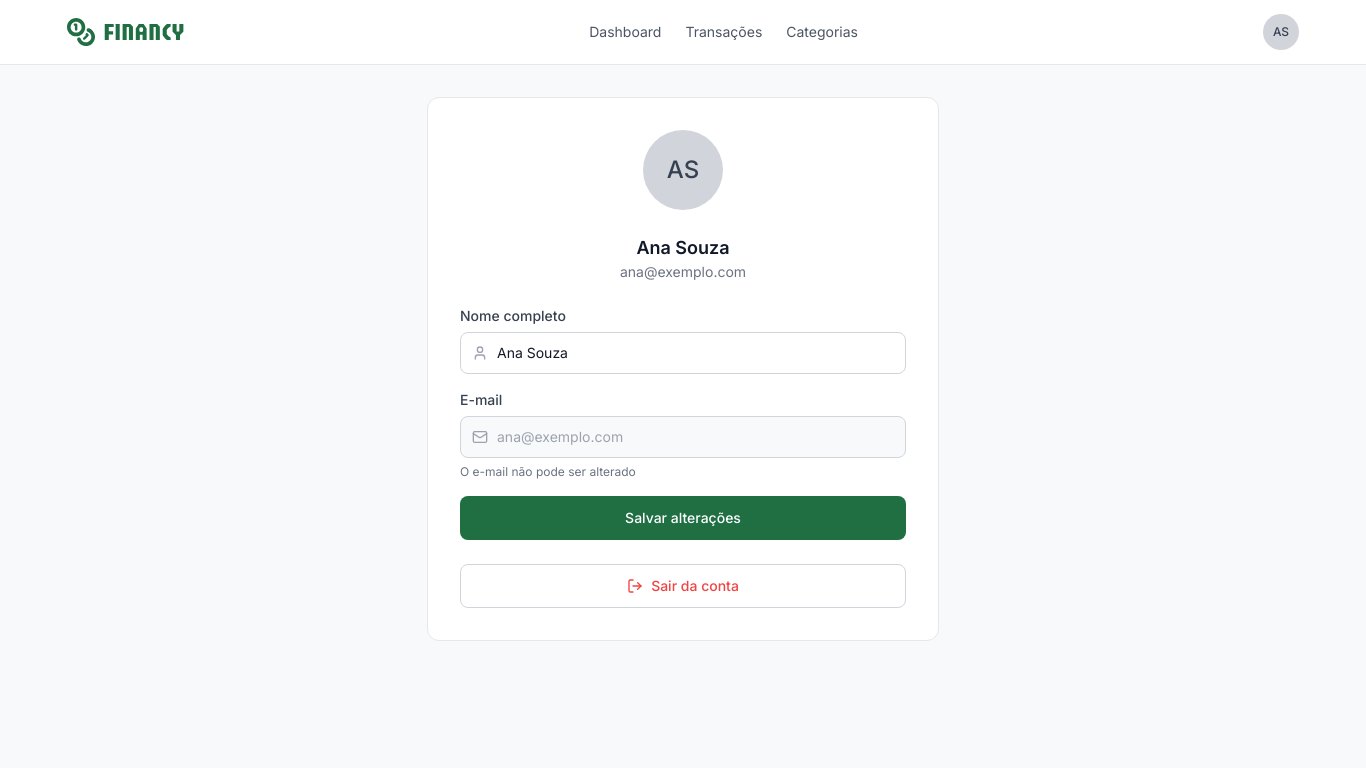
Test: an expired session › returns to login when any operation answers UNAUTHENTICATED
The image size is (1366, 768).
expect the field labelled "Nome completo" is shown: met, box x1=460 y1=332 x2=906 y2=374
Step 1. Click the button "Salvar alterações" → (683, 518), box x1=460 y1=496 x2=906 y2=540
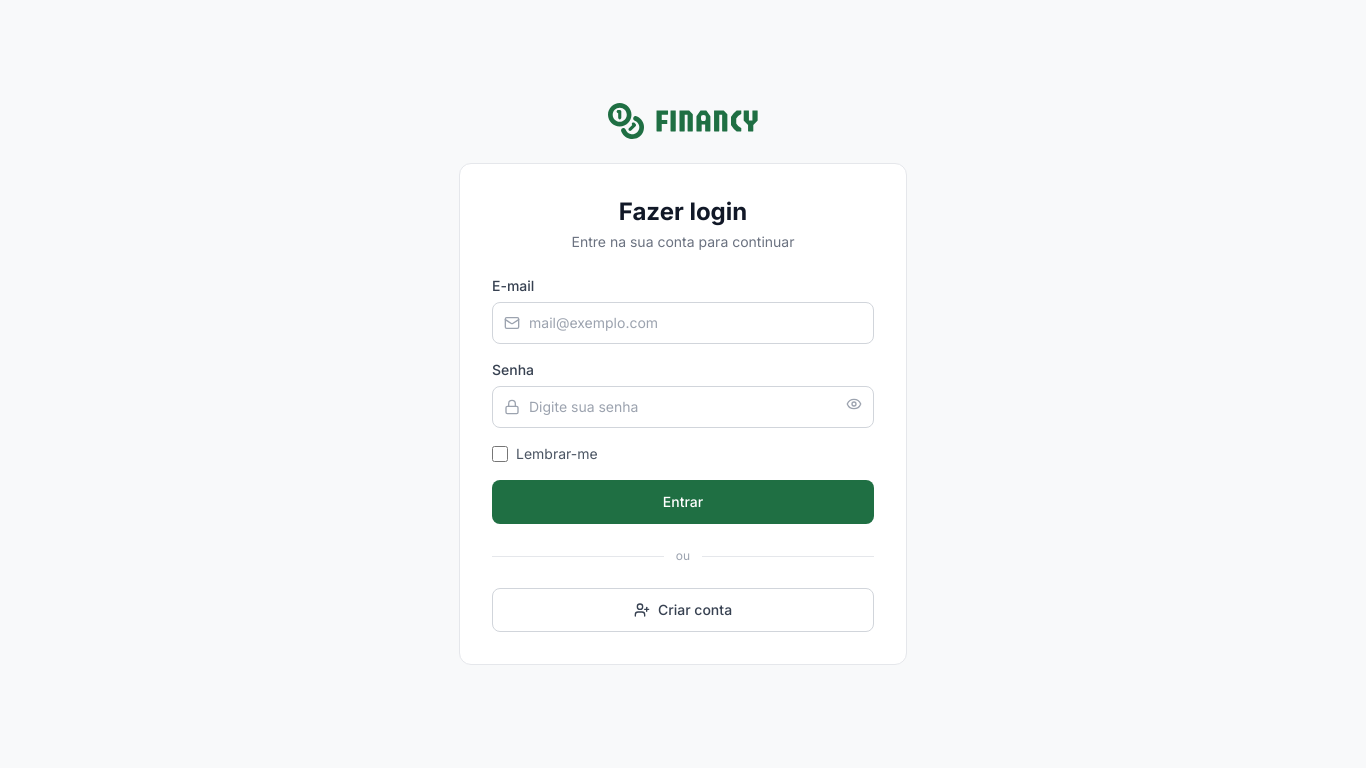
expect the heading "Fazer login" is shown: met, box x1=619 y1=197 x2=747 y2=226
